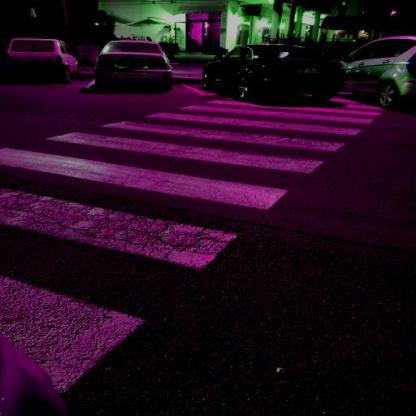crosswalk: (39, 119, 354, 177)
